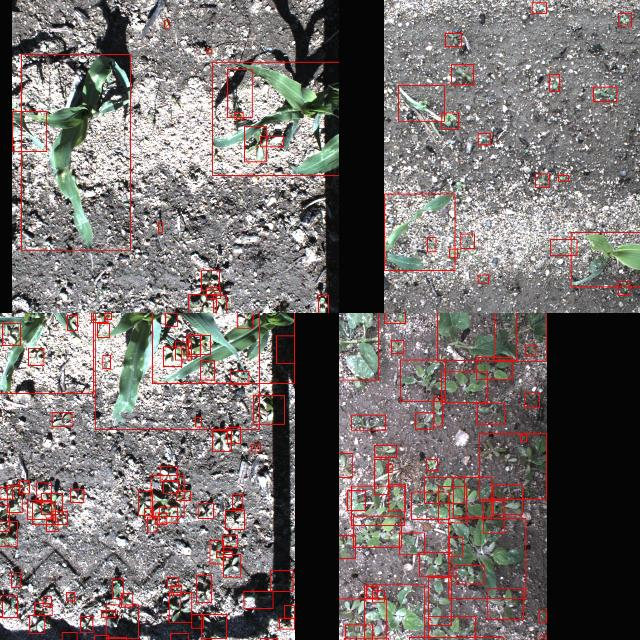crop: (20, 54, 130, 250), (94, 313, 259, 428), (211, 61, 339, 175), (151, 313, 294, 383), (0, 313, 93, 392), (384, 192, 454, 270), (570, 232, 640, 286), (437, 313, 516, 359), (339, 313, 378, 379), (494, 313, 546, 360), (11, 111, 45, 151)
weed: (448, 518, 526, 598), (479, 433, 546, 499), (364, 583, 424, 640), (350, 485, 404, 525), (339, 598, 385, 640), (400, 360, 444, 400), (396, 84, 444, 120), (452, 476, 492, 516), (352, 516, 402, 546), (441, 371, 487, 402), (150, 474, 183, 516), (226, 68, 252, 118), (428, 615, 475, 640), (427, 577, 451, 625), (105, 604, 138, 638), (487, 588, 523, 618), (438, 486, 467, 522), (424, 477, 464, 503), (411, 492, 449, 518), (253, 394, 284, 424), (492, 484, 522, 514), (418, 551, 452, 575), (476, 357, 512, 379), (244, 126, 266, 160), (168, 592, 192, 622), (482, 500, 503, 532), (477, 402, 505, 423), (202, 614, 226, 638), (398, 532, 424, 554), (188, 293, 216, 313), (456, 564, 484, 584), (351, 414, 385, 430), (244, 590, 272, 608), (374, 458, 388, 494), (32, 502, 54, 524), (276, 336, 294, 362), (40, 492, 61, 514), (27, 499, 51, 518), (196, 574, 212, 602), (6, 484, 22, 512), (451, 64, 473, 84), (271, 570, 293, 590), (188, 334, 210, 354), (344, 624, 371, 640), (550, 239, 576, 255), (388, 484, 404, 510), (200, 269, 220, 289), (0, 520, 16, 545), (162, 346, 182, 366), (223, 554, 241, 576), (1, 323, 19, 345), (592, 86, 616, 102), (339, 534, 355, 557), (212, 430, 230, 450), (347, 490, 365, 510), (0, 595, 16, 617), (226, 509, 244, 528), (138, 490, 152, 514), (209, 539, 223, 563), (158, 506, 178, 522), (339, 453, 352, 477), (186, 334, 200, 356), (440, 112, 458, 128), (28, 615, 44, 633), (175, 341, 191, 359), (415, 412, 433, 428), (200, 359, 214, 379), (51, 412, 71, 426), (448, 536, 462, 556), (433, 396, 442, 426), (36, 482, 50, 501), (374, 445, 396, 457), (197, 502, 213, 518), (27, 348, 43, 364), (230, 370, 248, 384), (260, 136, 284, 146), (160, 466, 177, 480), (212, 295, 225, 313), (0, 504, 9, 530), (460, 232, 474, 248), (445, 32, 461, 46), (226, 427, 240, 443), (237, 313, 253, 327), (524, 392, 540, 406), (111, 578, 122, 598), (33, 602, 51, 614), (535, 173, 549, 187), (618, 12, 632, 26), (69, 488, 83, 502), (52, 510, 66, 524), (96, 323, 110, 337), (80, 616, 92, 632), (162, 480, 178, 492), (318, 294, 328, 313), (383, 313, 404, 322), (530, 1, 546, 12), (206, 286, 220, 298), (618, 281, 630, 295), (120, 593, 132, 607), (191, 614, 203, 628), (45, 517, 57, 531), (222, 535, 236, 547), (549, 74, 559, 90), (147, 516, 157, 532), (67, 314, 77, 330), (165, 313, 177, 326), (391, 340, 404, 352), (477, 132, 489, 144), (170, 632, 188, 640), (154, 512, 166, 524), (91, 313, 107, 322), (372, 589, 384, 601), (426, 237, 436, 251), (10, 572, 20, 586), (280, 618, 294, 628), (284, 604, 294, 618), (176, 490, 190, 500), (232, 494, 242, 508), (61, 631, 76, 640), (0, 487, 11, 499), (18, 481, 28, 494), (427, 458, 438, 469), (166, 576, 178, 586), (525, 344, 535, 356), (366, 585, 376, 597), (101, 609, 115, 617), (102, 354, 110, 368), (171, 585, 181, 595), (144, 507, 152, 519), (216, 550, 232, 556), (41, 596, 50, 606), (477, 274, 488, 282), (94, 634, 108, 640), (448, 248, 456, 258), (106, 636, 126, 640), (250, 443, 260, 451), (540, 610, 546, 622), (66, 592, 74, 600), (558, 175, 568, 181), (195, 416, 201, 426), (234, 112, 242, 118), (520, 434, 526, 442), (386, 464, 392, 472), (539, 634, 546, 640), (158, 222, 162, 232), (104, 313, 110, 319), (164, 20, 168, 28), (206, 49, 212, 52)
